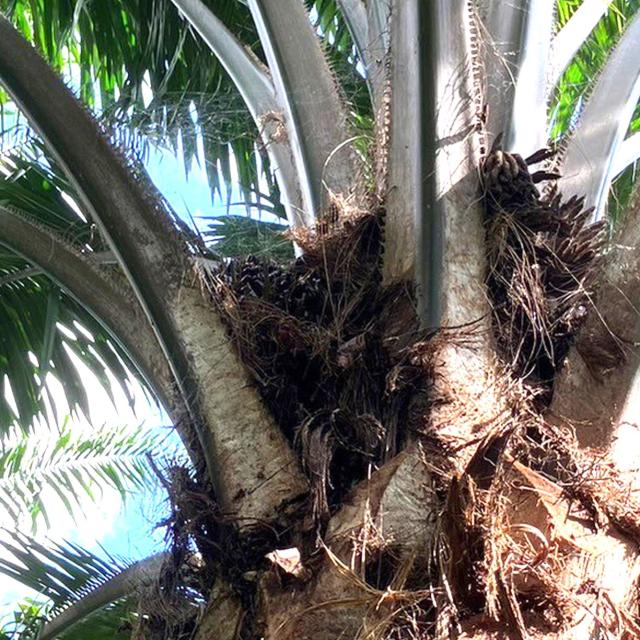almost: (196, 240, 328, 371)
